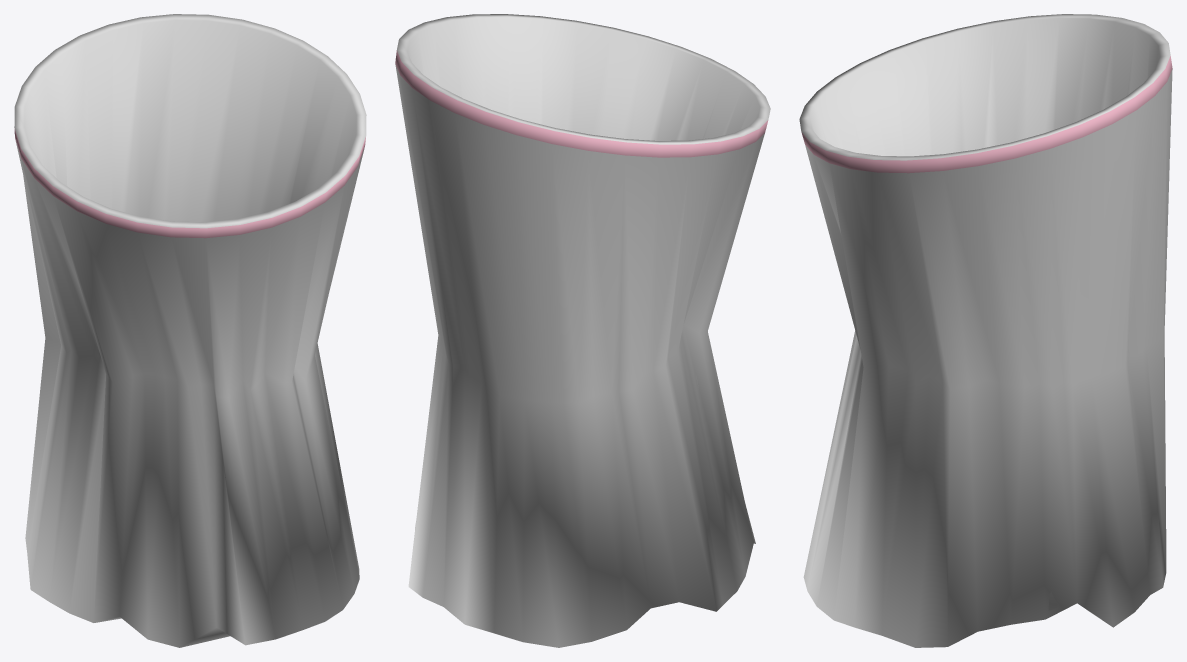
File: cupUnisten1.fbx
The picture shows the model from 3 angles, left to right: view 1: azimuth 30°, elevation 25°; view 2: azimuth 150°, elevation 25°; view 3: azimuth 270°, elevation 25°; orthographic projection. The views are drawn at different scales.
Visible parts, largest first — view 1: Cup.003; view 2: Cup.003; view 3: Cup.003.
Boxes of the visible parts, box(x1,y1,x2,y2) form: Cup.003: box(14, 14, 366, 647); Cup.003: box(395, 14, 770, 647); Cup.003: box(799, 14, 1172, 647).
Size of the model in its own units: 127 by 196 by 125.
